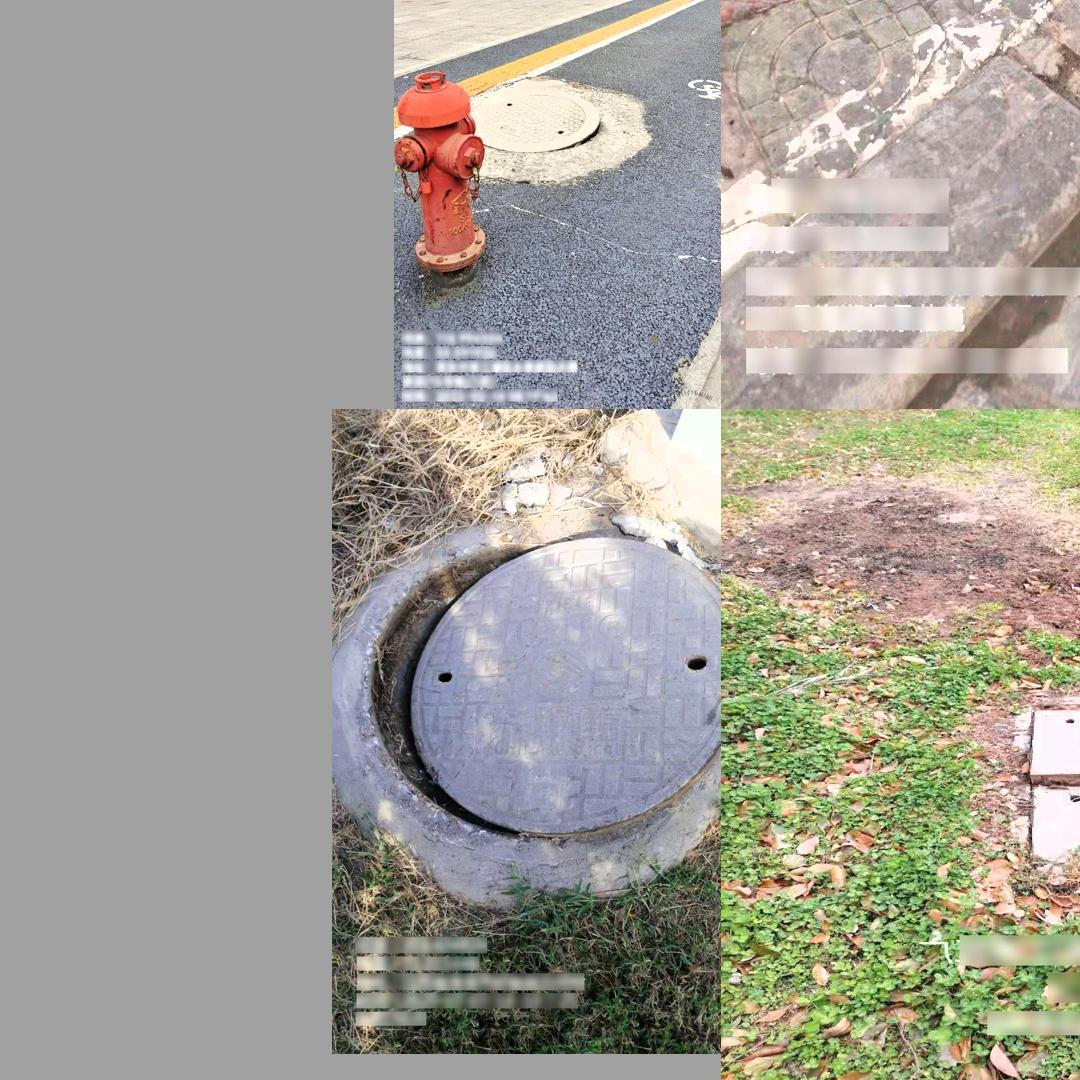uncovered: (358, 531, 719, 857), (986, 679, 1080, 866), (467, 62, 614, 167)
